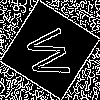W: (25, 25, 80, 81)
